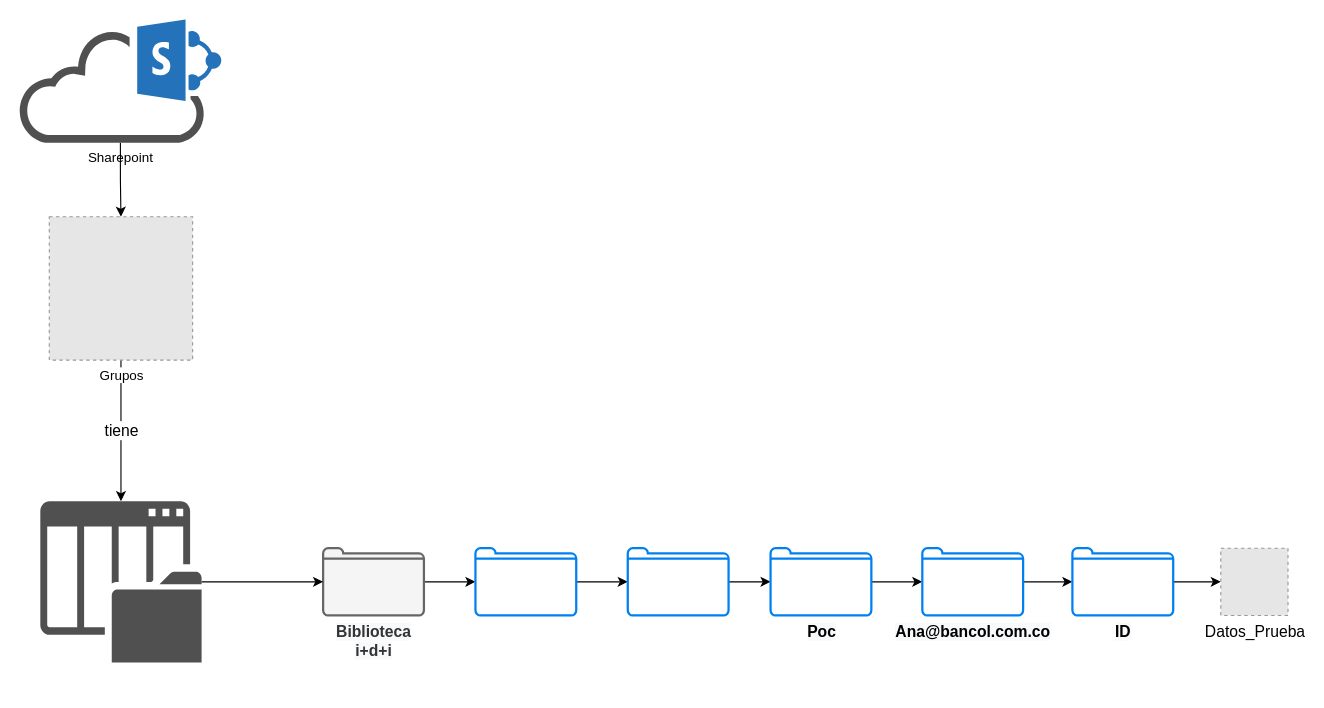
Image size: 1324x708. Some labels were removed from this diagram. Grey dashed boxes stand in for pictures. Here are the shapes that lost their labels. From the top down, the box of each, then its label:
(40, 501, 201, 662): Biblioteca
(474, 547, 577, 616): Arquitectura i+d+i
(626, 547, 729, 616): Pruebas
